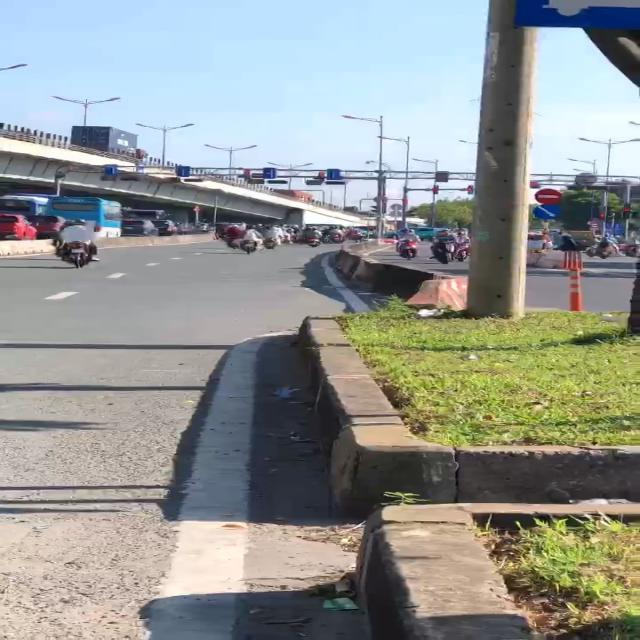Bien bao cam di nguoc chieu: (534, 187, 567, 204)
Bien bao huong phai di vong chuong ngai vat: (532, 204, 566, 221)
